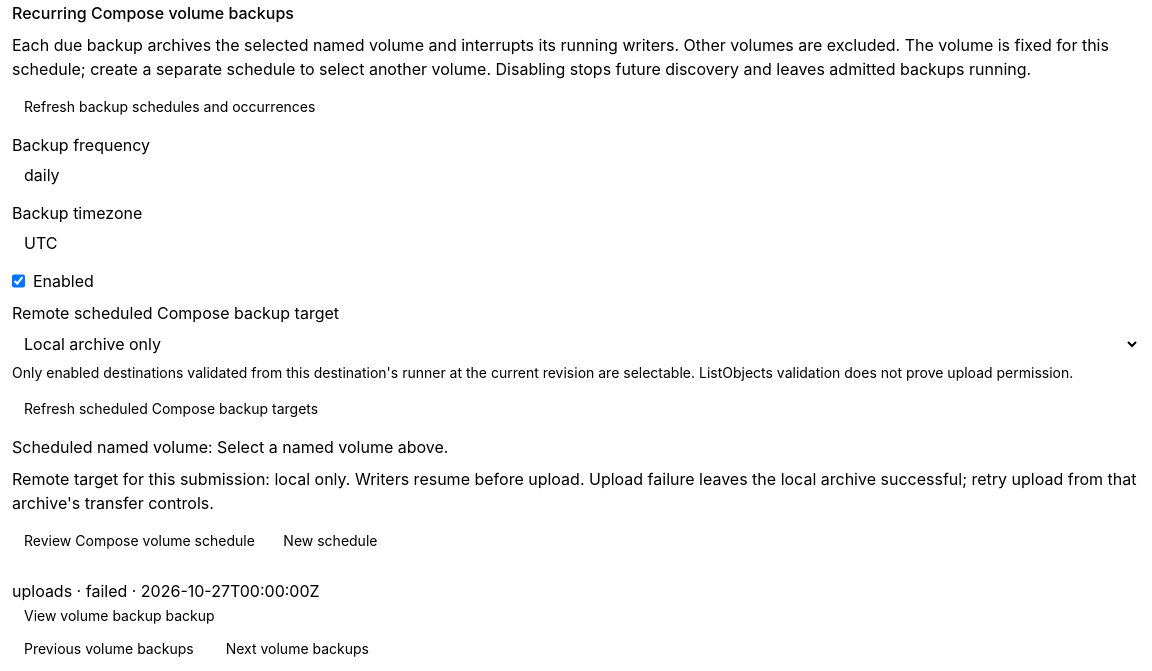
Scenario: held Compose archive requires consent and retries the exact resume recovery after response loss
This screenshot has width=1152, height=671.
(page scrolled)
Click the button "View volume backup backup": [119, 616] box x1=12 y1=606 x2=226 y2=626
(page scrolled)
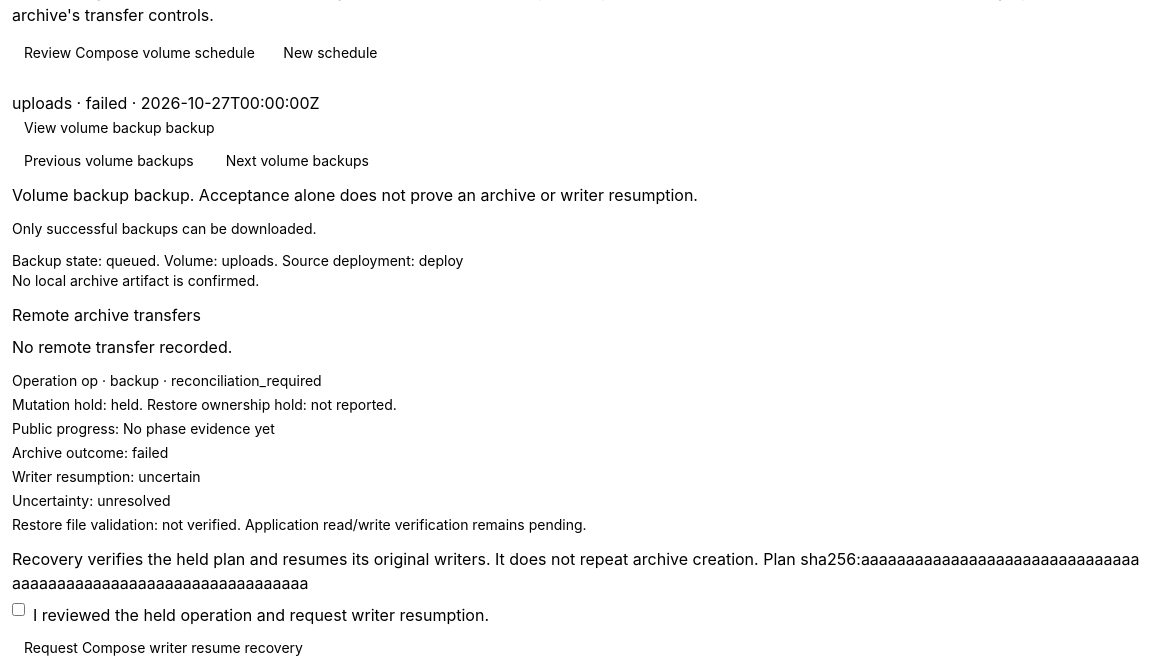
Check: the button "Request Compose writer resume recovery" is disabled, box x1=12 y1=638 x2=315 y2=658
Click the checkbox labelled "I reviewed the held operation and request writer resumption.": [18, 610] box x1=12 y1=603 x2=25 y2=616
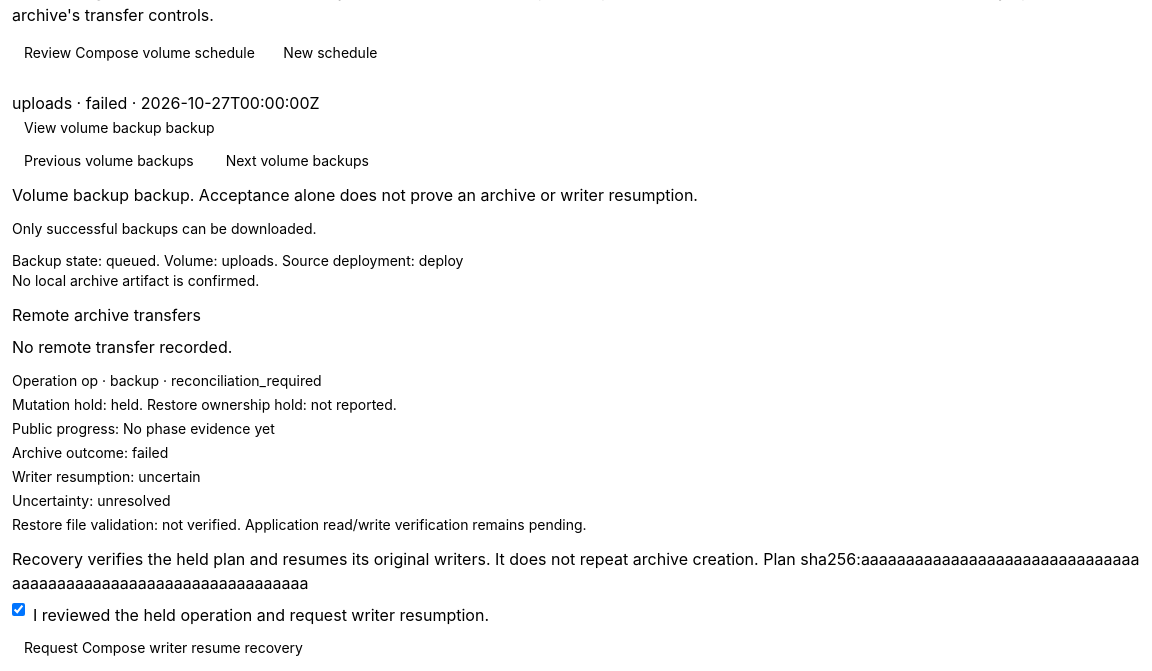
Click the button "Request Compose writer resume recovery": [164, 648] box x1=12 y1=638 x2=315 y2=658
(page scrolled)
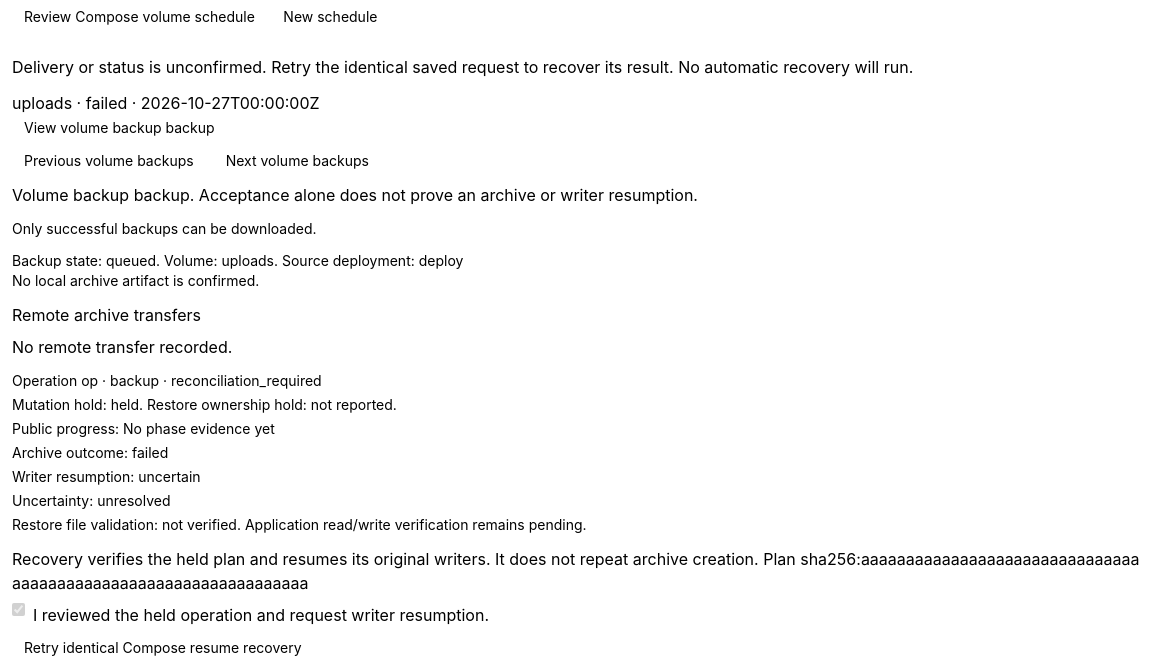
Check: the 1st message is shown, box x1=12 y1=57 x2=913 y2=77
Click the button "Retry identical Compose resume recovery": [163, 648] box x1=12 y1=638 x2=314 y2=658
(page scrolled)
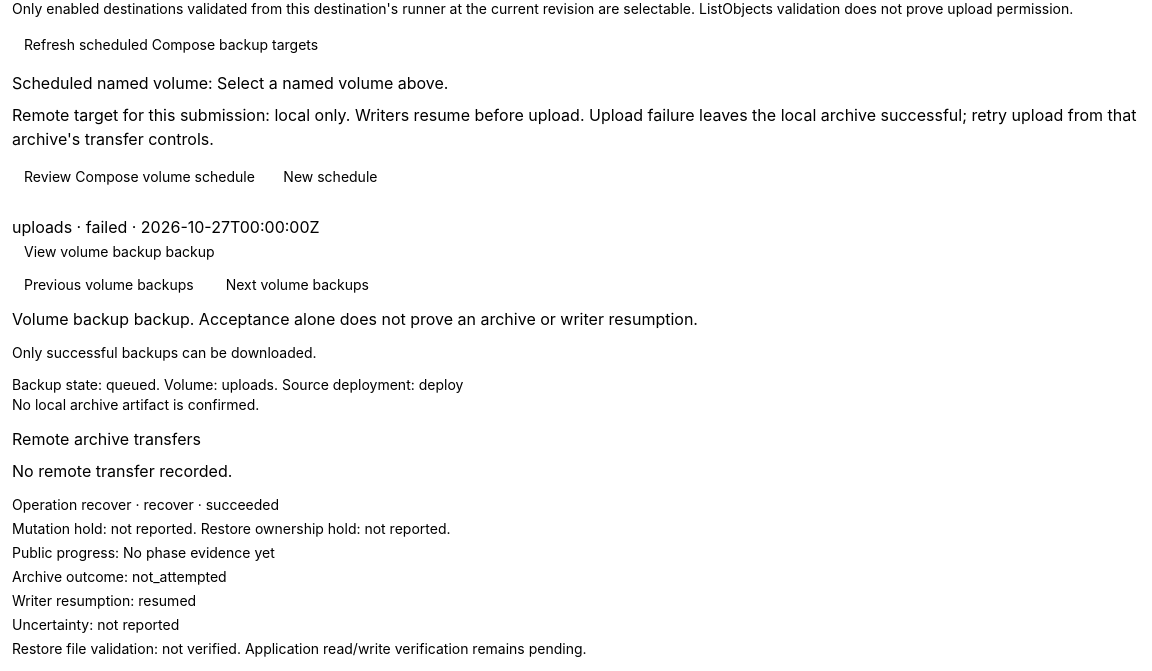
Check: the element named "recover operation recover" is shown, box x1=12 y1=496 x2=587 y2=657
Check: the text "Writer resumption: resumed" is shown, box x1=12 y1=592 x2=196 y2=609
